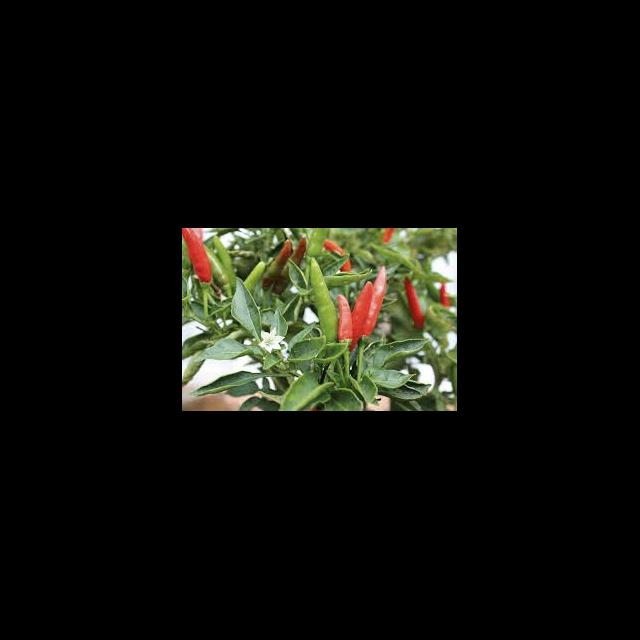chili_pepper: (311, 257, 338, 343), (358, 266, 388, 340), (182, 228, 212, 284), (351, 282, 373, 353), (405, 277, 425, 330), (338, 294, 354, 348), (242, 262, 268, 294)
